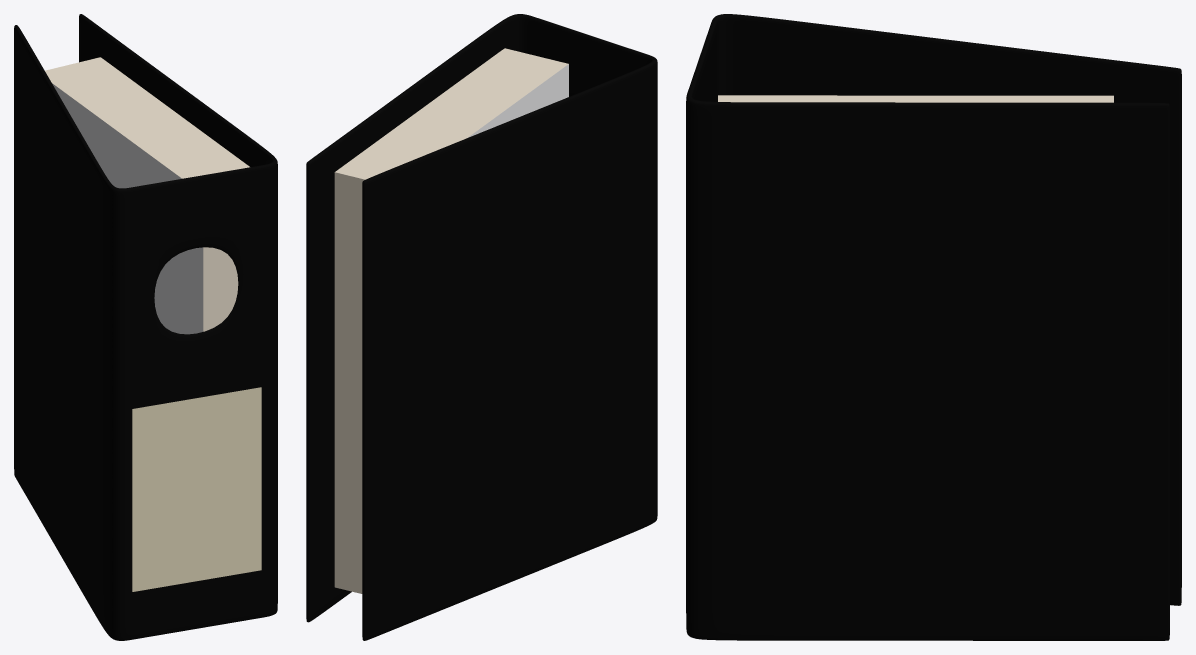
The model's file is Folders.fbx.
3 renders of one model, left to right at view 1: azimuth 30°, elevation 25°; view 2: azimuth 150°, elevation 25°; view 3: azimuth 270°, elevation 25°, orthographic. The views are drawn at different scales.
Visible parts, largest first — view 1: folder.003, papers.003; view 2: folder.003, papers.003; view 3: folder.003, papers.003.
Boxes of the visible parts, bbox=[...] form: folder.003: bbox=[14, 14, 277, 640]; papers.003: bbox=[45, 57, 249, 334]; folder.003: bbox=[306, 14, 657, 640]; papers.003: bbox=[334, 48, 568, 593]; folder.003: bbox=[686, 14, 1181, 640]; papers.003: bbox=[718, 95, 1113, 102].
Size of the model in its own units: 17.49 by 47.96 by 40.08.
